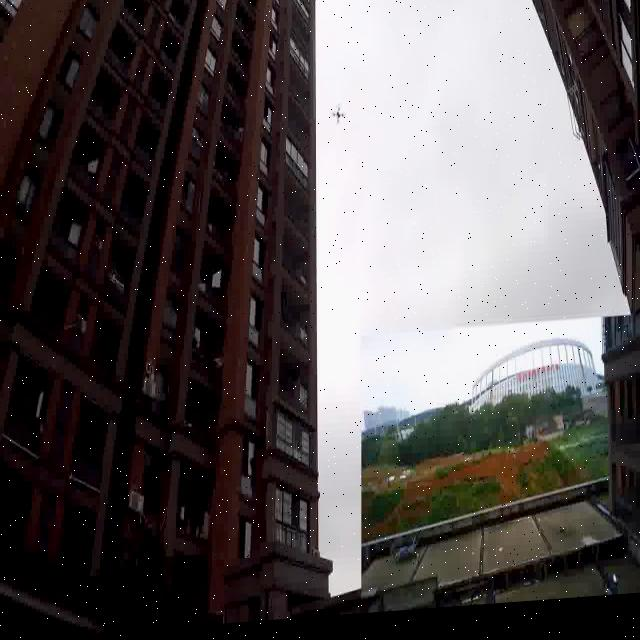drone: (328, 107, 348, 132)
